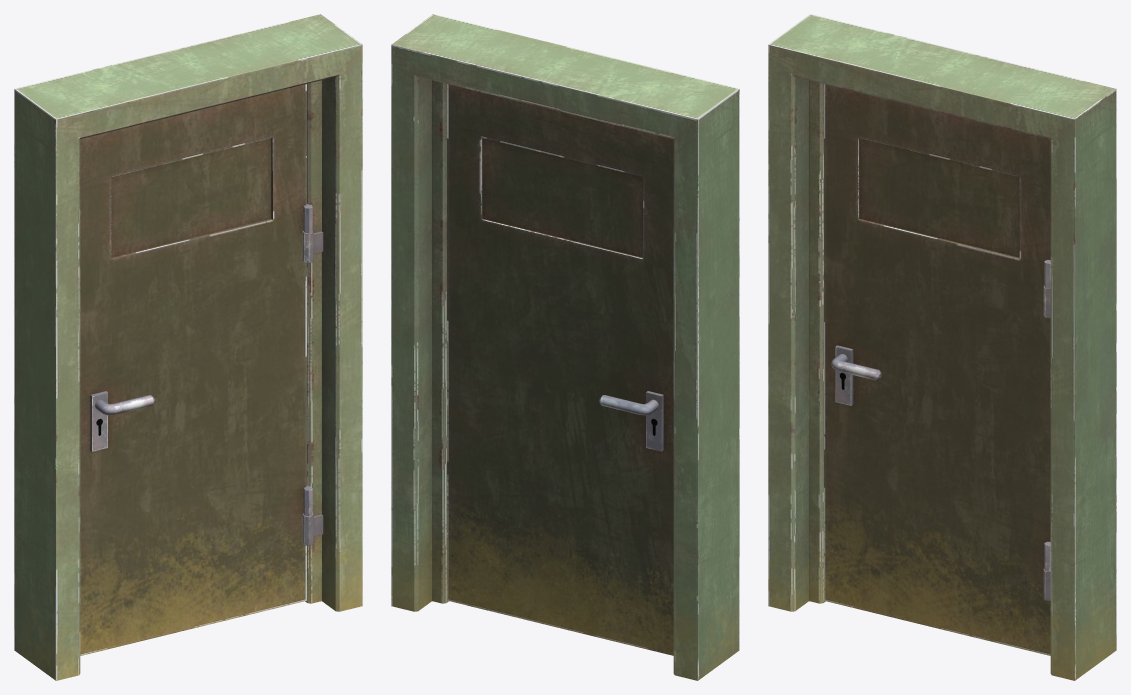
The model's file is porte_industrielle clair.glb.
3 views of the same model, side by side, from view 1: azimuth 30°, elevation 25°; view 2: azimuth 150°, elevation 25°; view 3: azimuth 330°, elevation 25° (orthographic).
Parts seen in each view (by area): view 1: door, frame, handle; view 2: door, frame, handle; view 3: door, frame, handle.
Part boxes in pixels (bbox=[...]): door: bbox=[80, 84, 312, 655]; frame: bbox=[14, 14, 362, 680]; handle: bbox=[95, 395, 154, 415]; door: bbox=[447, 84, 673, 655]; frame: bbox=[391, 14, 739, 680]; handle: bbox=[599, 395, 658, 415]; door: bbox=[824, 84, 1050, 655]; frame: bbox=[768, 14, 1116, 680]; handle: bbox=[831, 354, 881, 380].
Bounding box in the file's own units: 127 × 222 × 30.
1 material, 1 textured.
